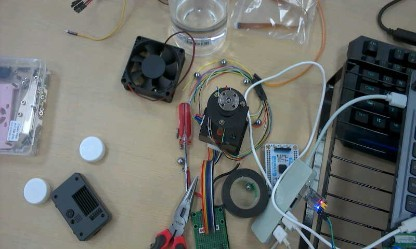ironball: (244, 183, 253, 191), (177, 157, 184, 164), (193, 71, 200, 78), (254, 119, 261, 125), (151, 87, 157, 93), (220, 58, 226, 64), (242, 78, 249, 83)
